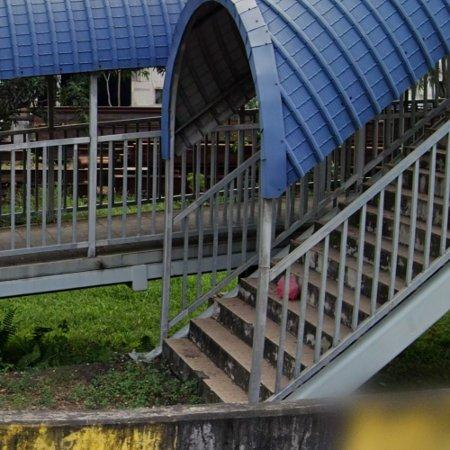stairs: (260, 121, 450, 400), (164, 275, 261, 403)
